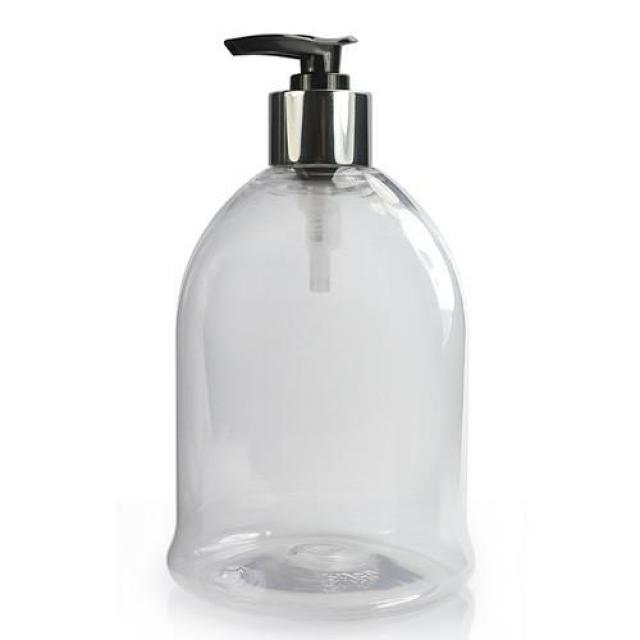plastic_bottle: (149, 18, 494, 626)
